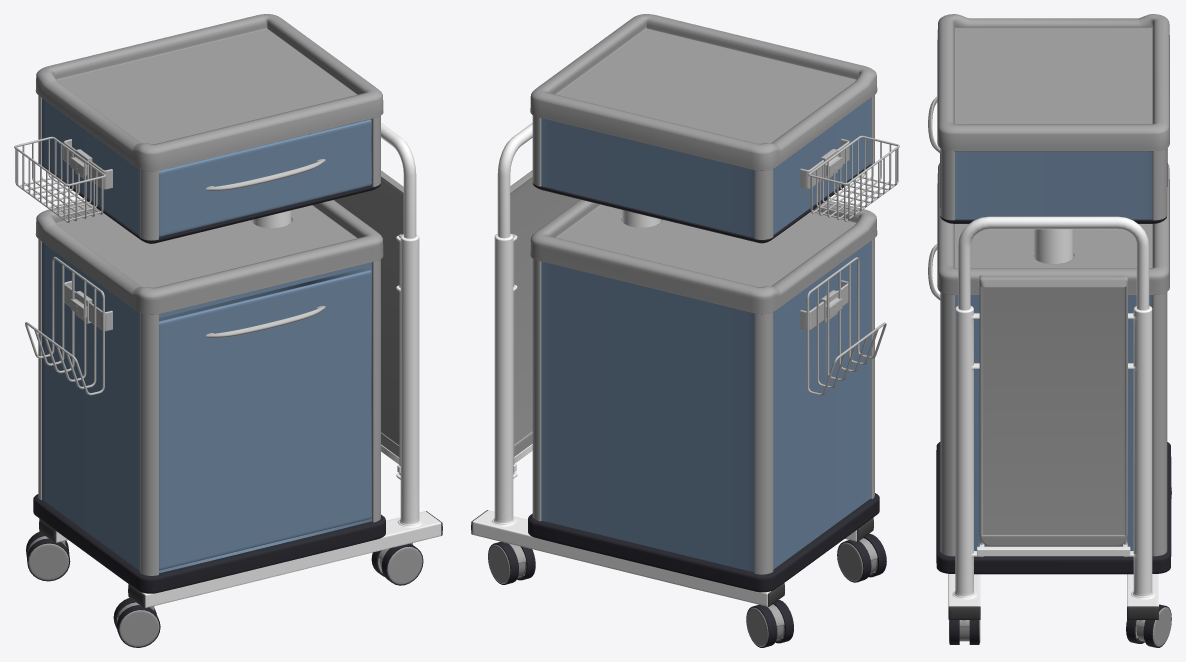
File: trolley.fbx
3 renders of one model, left to right at view 1: azimuth 30°, elevation 25°; view 2: azimuth 150°, elevation 25°; view 3: azimuth 270°, elevation 25°, orthographic.
Parts seen in each view (by area): view 1: Object_9; view 2: Object_9; view 3: Object_9.
Part boxes in pixels (x1=…): Object_9: x1=14, y1=14, x2=442, y2=647; Object_9: x1=471, y1=14, x2=899, y2=647; Object_9: x1=928, y1=14, x2=1171, y2=647.
Size of the model in its own units: 3237 by 4410 by 1940.
Materials: 8 (2 with a texture image).
